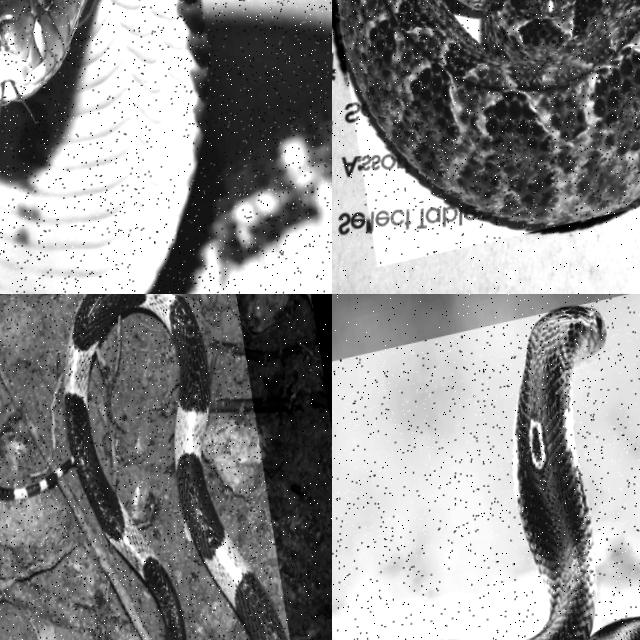Bungarus candidus: (0, 294, 285, 639)
Calloselasma rhodostoma: (334, 0, 639, 225)
Naja kaouthia: (513, 307, 639, 639)
Naja siamensis: (0, 0, 331, 293)
